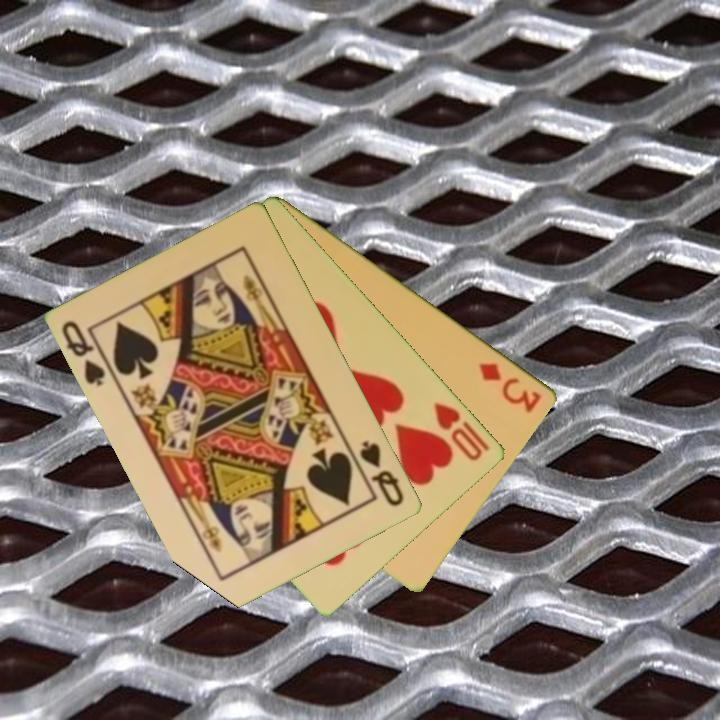10h: (431, 398, 486, 464)
3d: (476, 359, 545, 416)
Qs: (58, 317, 109, 390), (357, 437, 407, 510)
